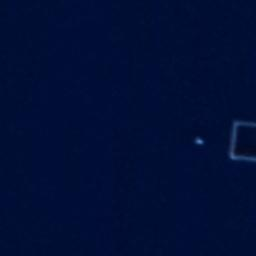square_solid: (225, 115, 256, 166)
